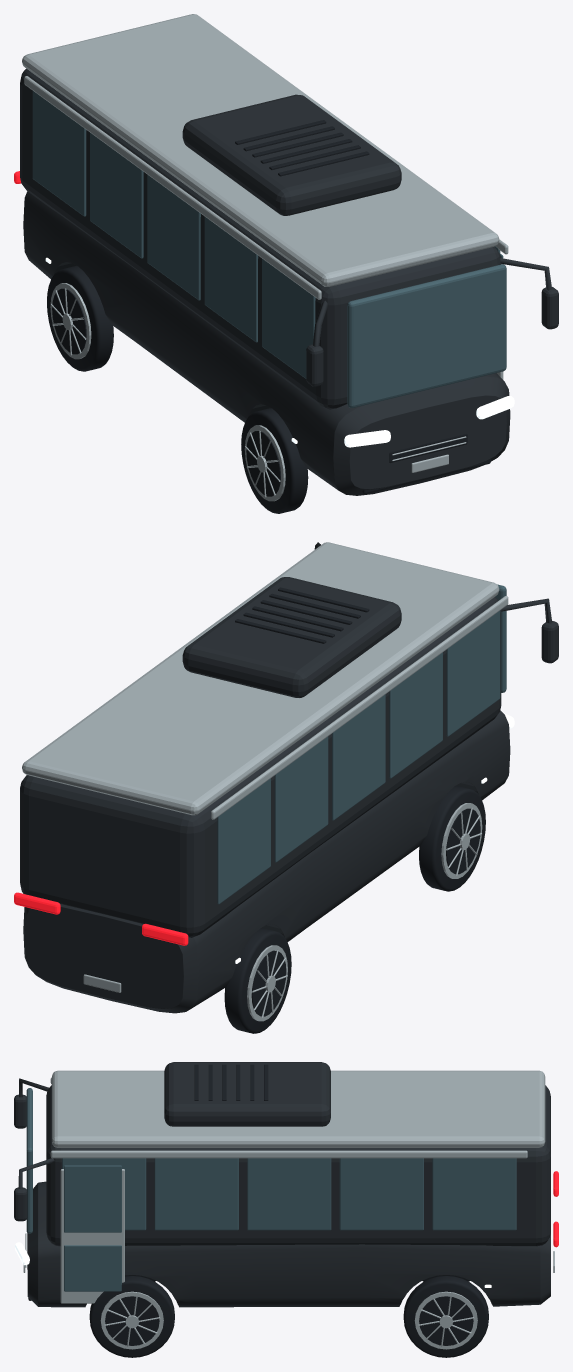
Rendered from car-5.glb.
3 renders of one model, top to bottom at view 1: azimuth 30°, elevation 25°; view 2: azimuth 150°, elevation 25°; view 3: azimuth 270°, elevation 25°, orthographic. The views are drawn at different scales.
Visible parts, largest first — view 1: Paint, Machined alloy, Tinted glazing, Tyres and trim, Headlight lens; view 2: Paint, Machined alloy, Tinted glazing, Tyres and trim, Rear LED; view 3: Paint, Machined alloy, Tinted glazing, Tyres and trim.
Boxes of the visible parts, left/top/right/bottom form: Paint: left=20, top=68, right=558, bottom=495; Machined alloy: left=22, top=14, right=508, bottom=501; Tinted glazing: left=32, top=91, right=506, bottom=407; Tyres and trim: left=47, top=120, right=490, bottom=513; Headlight lens: left=45, top=257, right=514, bottom=447; Paint: left=20, top=542, right=558, bottom=1013; Machined alloy: left=22, top=542, right=508, bottom=1021; Tinted glazing: left=217, top=584, right=506, bottom=904; Tyres and trim: left=224, top=587, right=485, bottom=1033; Rear LED: left=14, top=892, right=188, bottom=945; Paint: left=14, top=1062, right=550, bottom=1307; Machined alloy: left=23, top=1070, right=554, bottom=1349; Tinted glazing: left=26, top=1088, right=516, bottom=1291; Tyres and trim: left=27, top=1064, right=488, bottom=1357.
Size of the model in its own units: 0.5 by 0.568 by 1.18.
